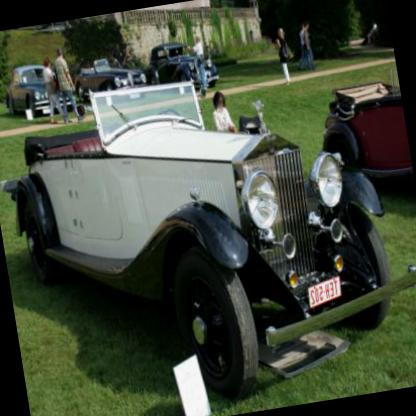car: (312, 65, 413, 190), (138, 32, 223, 100), (1, 55, 78, 120), (69, 49, 150, 104)
